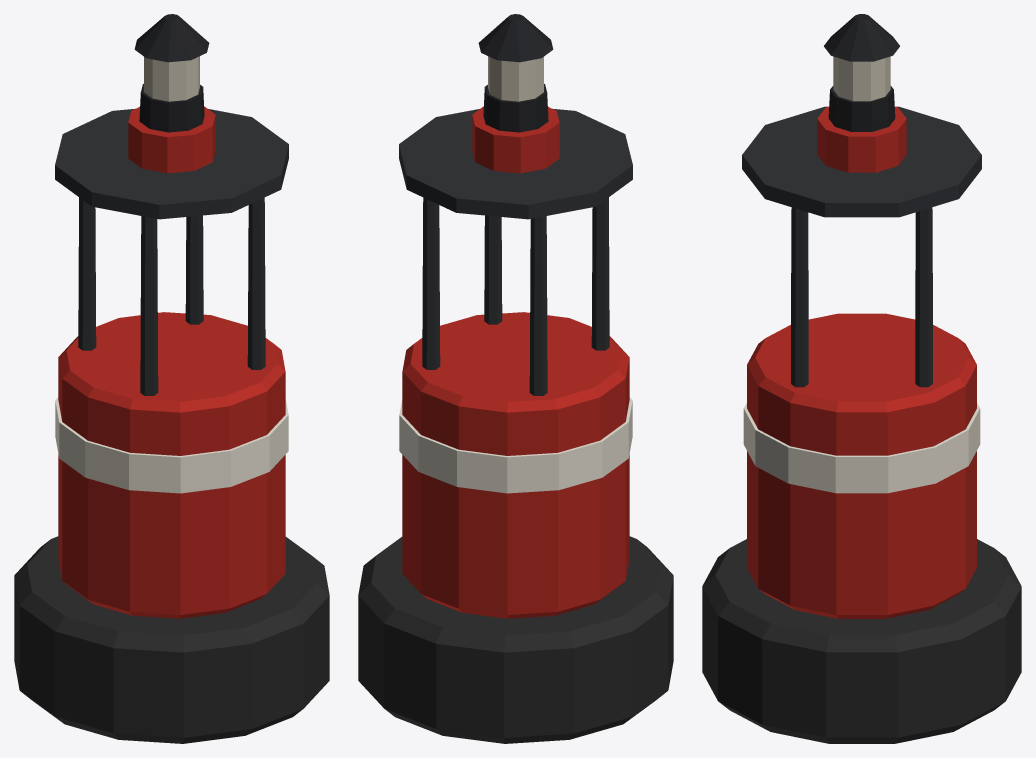
File: buoy_red.fbx
3 renders of one model, left to right at view 1: azimuth 30°, elevation 25°; view 2: azimuth 150°, elevation 25°; view 3: azimuth 270°, elevation 25°, orthographic.
Visible parts, largest first — view 1: Body; view 2: Body; view 3: Body.
Boxes of the visible parts, bbox=[...] form: Body: bbox=[14, 14, 329, 743]; Body: bbox=[358, 14, 673, 743]; Body: bbox=[702, 14, 1021, 743].
Bounding box in the file's own units: 1.95 × 4.6 × 2.
